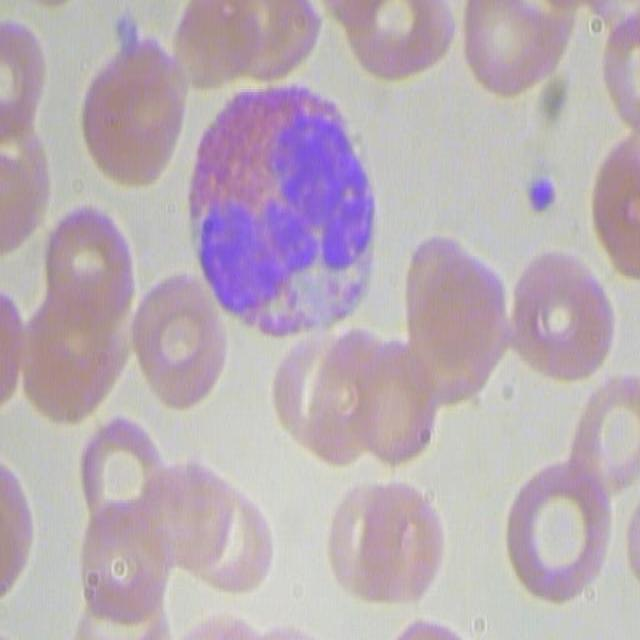RBC: (16, 193, 126, 430), (404, 230, 508, 416), (492, 240, 620, 388), (502, 458, 614, 613), (154, 466, 278, 600), (319, 474, 444, 606), (270, 322, 378, 468), (78, 46, 186, 190), (128, 274, 225, 415), (449, 1, 572, 112), (178, 0, 327, 88), (42, 200, 134, 337), (74, 510, 172, 628), (80, 411, 170, 533), (333, 0, 459, 83), (569, 370, 640, 496), (592, 123, 640, 279), (0, 121, 44, 264), (0, 12, 44, 140), (599, 0, 639, 133), (0, 451, 34, 602)
WBC: (188, 73, 381, 343)
platelets: (109, 7, 146, 63), (522, 169, 557, 220)
